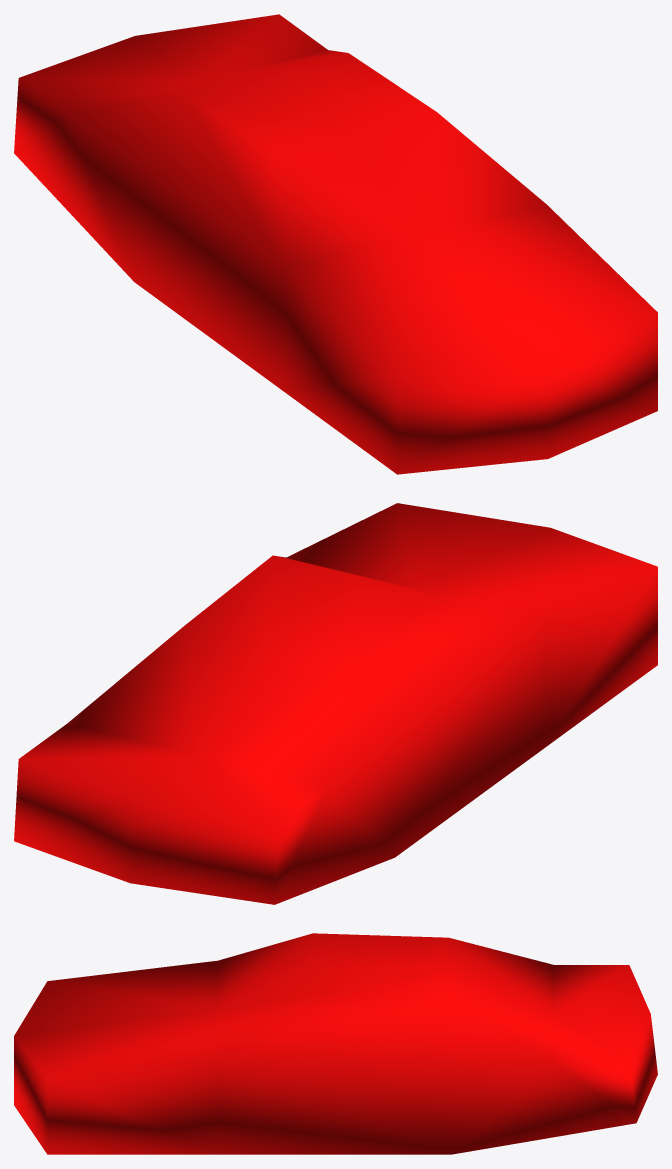
The model's file is car_01_collider.fbx.
3 views of the same model, one above another, from view 1: azimuth 30°, elevation 25°; view 2: azimuth 150°, elevation 25°; view 3: azimuth 270°, elevation 25° (orthographic). The views are drawn at different scales.
Visible parts, largest first — view 1: Mesh; view 2: Mesh; view 3: Mesh.
Part boxes in pixels (<box>): Mesh: <box>14,14,657,474</box>; Mesh: <box>14,503,657,904</box>; Mesh: <box>14,933,657,1154</box>.
Size of the model in its own units: 201 by 136 by 559.
